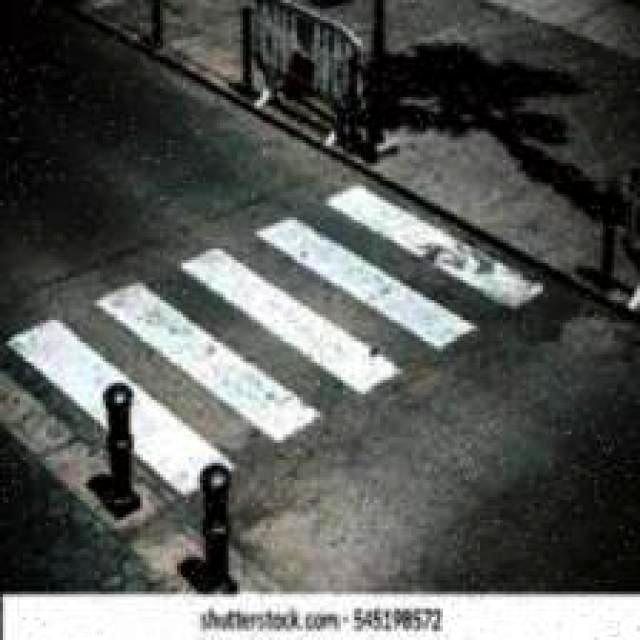crosswalk: (0, 190, 535, 542)
